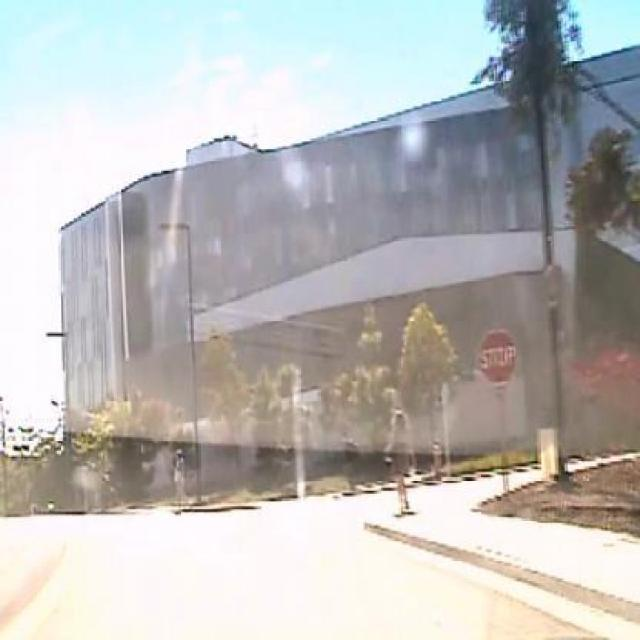Stop: (474, 328, 518, 388)
